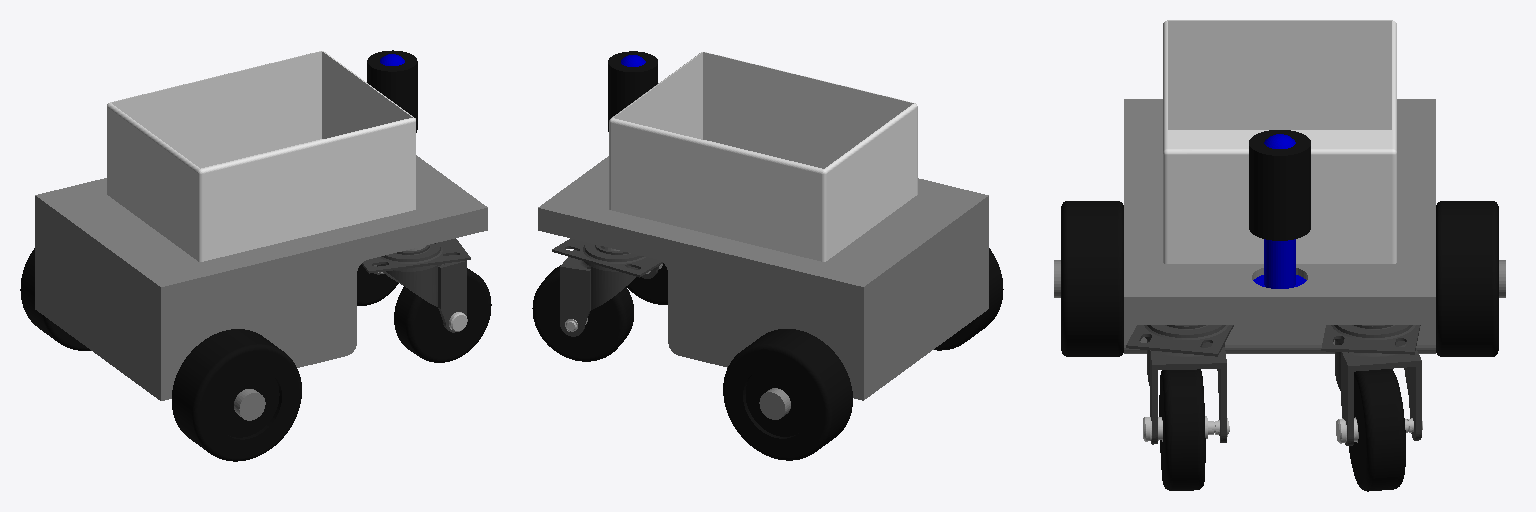
robot.urdf — hospital_robot:
<?xml version="1.0" ?>
<!-- =================================================================================== -->
<!-- |    This document was autogenerated by xacro from /home/bismanroop/ros2_ws/install/hospital_robot_description/share/hospital_robot_description/urdf/robot.urdf.xacro | -->
<!-- |    EDITING THIS FILE BY HAND IS NOT RECOMMENDED                                 | -->
<!-- =================================================================================== -->
<robot name="hospital_robot">
  <!-- ================================================================
    COORDINATE SYSTEM NOTES:
    - All STLs exported from same SolidWorks assembly (Y-up, mm)
    - ROS uses Z-up, meters
    - Mesh scale: 0.003 0.003 0.003  (scaled DOWN from 0.005 by factor 0.6)
    - SW → ROS: x_ros = sw_x*0.003, y_ros = -sw_z*0.003, z_ros = sw_y*0.003

    SCALING APPLIED (relative to 0.005 robot, factor = 0.6):
      Linear (xyz, sizes)  ×0.6
      Mass                 ×0.216   (volume ∝ L³ = 0.6³)
      Inertia              ×0.07776 (I = m·L² → 0.216 × 0.36 = 0.07776)

    ROBOT LAYOUT (0.003 scale):
      Drive wheels   : x=-0.276, y=±0.360, z=0
      Casters (front): x=+0.390, y=±0.195, z=+0.030 / +0.105
      Payload centre : z=+0.420
      Lidar mount    : x=+0.360, z=+0.435
      Spawn at z=0.150 in Gazebo

    CASTER JOINT CHAIN (per caster):
      base_link
        └─ front_caster_X_swivel_joint  [continuous, Z]  ← STEERS
              └─ front_caster_X_swivel  (topfork1/2, shaft, bearings,
                                         snap ring, bash plates)
                    └─ front_caster_X_wheel_joint  [continuous, Y]  ← ROLLS
                          └─ front_caster_X_wheel  (fork + wheel)

    WHEEL AXLE OFFSET (wheel_joint z from swivel origin):
      -0.150 m  ← (was -0.250, scaled by 0.6)
  ================================================================ -->
  <!-- ==================== MATERIALS ==================== -->
  <material name="grey">
    <color rgba="0.55 0.55 0.55 1.0"/>
  </material>
  <material name="dark_grey">
    <color rgba="0.30 0.30 0.30 1.0"/>
  </material>
  <material name="black">
    <color rgba="0.10 0.10 0.10 1.0"/>
  </material>
  <material name="blue">
    <color rgba="0.00 0.00 0.80 1.0"/>
  </material>
  <material name="white">
    <color rgba="0.90 0.90 0.90 1.0"/>
  </material>
  <material name="silver">
    <color rgba="0.75 0.75 0.75 1.0"/>
  </material>
  <!-- ==================== CHASSIS (base_link) ==================== -->
  <!-- Linear ×0.6: collision origin z=0.168, box 0.900×0.870×0.336 -->
  <!-- Mass ×0.216: 1250×0.216=270.0                                 -->
  <!-- Inertia ×0.07776: ixx=266.875×0.07776=20.749, etc.           -->
  <link name="base_link">
    <visual>
      <origin rpy="1.5708 0 0" xyz="0 0 0"/>
      <geometry>
        <mesh filename="package://hospital_robot_description/meshes/chassis.stl" scale="0.003 0.003 0.003"/>
      </geometry>
      <material name="grey"/>
    </visual>
    <collision>
      <origin rpy="0 0 0" xyz="0 0 0.168"/>
      <geometry>
        <box size="0.900 0.870 0.336"/>
      </geometry>
    </collision>
    <inertial>
      <mass value="270.0"/>
      <origin xyz="0 0 0.168"/>
      <inertia ixx="20.749" ixy="0" ixz="0" iyy="18.745" iyz="0" izz="35.438"/>
    </inertial>
  </link>
  <!-- ==================== PAYLOAD BOX ==================== -->
  <!-- Linear ×0.6: joint+collision origin z=0.420, box 0.600×0.450×0.240 -->
  <!-- Mass ×0.216: 125×0.216=27.0                                          -->
  <!-- Inertia ×0.07776: 15.625×0.07776=1.215                               -->
  <link name="payload_box">
    <visual>
      <origin rpy="1.5708 0 0" xyz="0 0 0"/>
      <geometry>
        <mesh filename="package://hospital_robot_description/meshes/payload_box.stl" scale="0.003 0.003 0.003"/>
      </geometry>
      <material name="white"/>
    </visual>
    <collision>
      <origin rpy="0 0 0" xyz="0 0 0.420"/>
      <geometry>
        <box size="0.600 0.450 0.240"/>
      </geometry>
    </collision>
    <inertial>
      <mass value="27.0"/>
      <origin xyz="0 0 0.420"/>
      <inertia ixx="1.215" ixy="0" ixz="0" iyy="1.215" iyz="0" izz="1.215"/>
    </inertial>
  </link>
  <joint name="payload_box_joint" type="fixed">
    <parent link="base_link"/>
    <child link="payload_box"/>
    <origin rpy="0 0 0" xyz="0 0 0"/>
  </joint>
  <!-- ==================== LIDAR MOUNT ==================== -->
  <!-- Linear ×0.6: collision origin (0.360, 0, 0.435), cyl r=0.072 l=0.330 -->
  <!-- Mass ×0.216: 25×0.216=5.4                                              -->
  <!-- Inertia ×0.07776: 0.3125×0.07776=0.02430                               -->
  <link name="lidar_mount">
    <visual>
      <origin rpy="1.5708 0 0" xyz="0 0 0"/>
      <geometry>
        <mesh filename="package://hospital_robot_description/meshes/lidar_mount.stl" scale="0.003 0.003 0.003"/>
      </geometry>
      <material name="blue"/>
    </visual>
    <collision>
      <origin rpy="0 0 0" xyz="0.360 0 0.435"/>
      <geometry>
        <cylinder length="0.330" radius="0.072"/>
      </geometry>
    </collision>
    <inertial>
      <mass value="5.4"/>
      <origin xyz="0.360 0 0.435"/>
      <inertia ixx="0.02430" ixy="0" ixz="0" iyy="0.02430" iyz="0" izz="0.02430"/>
    </inertial>
  </link>
  <joint name="lidar_mount_joint" type="fixed">
    <parent link="base_link"/>
    <child link="lidar_mount"/>
    <origin rpy="0 0 0" xyz="0 0 0"/>
  </joint>
  <!-- ==================== LEFT DRIVE WHEEL ==================== -->
  <!-- Joint ×0.6: (-0.276, +0.360, 0)                            -->
  <!-- Visual offset = -(joint xyz) = (0.276, -0.360, 0)           -->
  <!-- Collision: cyl r=0.150 l=0.120                               -->
  <!-- Mass ×0.216: 62.5×0.216=13.5                                 -->
  <!-- Inertia ×0.07776: ixx=0.9375×0.07776=0.07290, izz=1.875×0.07776=0.14580 -->
  <link name="left_wheel">
    <visual>
      <origin rpy="1.5708 0 0" xyz="0.276 -0.360 0"/>
      <geometry>
        <mesh filename="package://hospital_robot_description/meshes/wheel_left.stl" scale="0.003 0.003 0.003"/>
      </geometry>
      <material name="black"/>
    </visual>
    <collision>
      <origin rpy="1.5708 0 0" xyz="0 0 0"/>
      <geometry>
        <cylinder length="0.120" radius="0.150"/>
      </geometry>
    </collision>
    <inertial>
      <mass value="13.5"/>
      <origin xyz="0 0 0"/>
      <inertia ixx="0.07290" ixy="0" ixz="0" iyy="0.07290" iyz="0" izz="0.14580"/>
    </inertial>
  </link>
  <joint name="left_wheel_joint" type="continuous">
    <parent link="base_link"/>
    <child link="left_wheel"/>
    <origin rpy="0 0 0" xyz="-0.276 0.360 0"/>
    <axis xyz="0 1 0"/>
  </joint>
  <!-- ==================== RIGHT DRIVE WHEEL ==================== -->
  <!-- Joint ×0.6: (-0.276, -0.360, 0)                             -->
  <!-- Visual offset = -(joint xyz) = (0.276, +0.360, 0)            -->
  <link name="right_wheel">
    <visual>
      <origin rpy="1.5708 0 0" xyz="0.276 0.360 0"/>
      <geometry>
        <mesh filename="package://hospital_robot_description/meshes/wheel_right.stl" scale="0.003 0.003 0.003"/>
      </geometry>
      <material name="black"/>
    </visual>
    <collision>
      <origin rpy="1.5708 0 0" xyz="0 0 0"/>
      <geometry>
        <cylinder length="0.120" radius="0.150"/>
      </geometry>
    </collision>
    <inertial>
      <mass value="13.5"/>
      <origin xyz="0 0 0"/>
      <inertia ixx="0.07290" ixy="0" ixz="0" iyy="0.07290" iyz="0" izz="0.14580"/>
    </inertial>
  </link>
  <joint name="right_wheel_joint" type="continuous">
    <parent link="base_link"/>
    <child link="right_wheel"/>
    <origin rpy="0 0 0" xyz="-0.276 -0.360 0"/>
    <axis xyz="0 1 0"/>
  </joint>
  <!-- ╔══════════════════════════════════════════════════════════════╗
       ║       FRONT CASTER 1  (right-front)  — STEERABLE            ║
       ╚══════════════════════════════════════════════════════════════╝ -->
  <!--- CASTER 1 : SWIVEL LINK (top-fork assembly)
    Swivel joint in base_link : xyz = (0.390, -0.195, 0.030)   [×0.6 of (0.650,-0.325,0.050)]
    Visual offset             : -(0.390, -0.195, 0.030) = (-0.390, +0.195, -0.030)
  -->
  <link name="front_caster_1_swivel">
    <visual>
      <!-- Top fork 1 -->
      <origin rpy="1.5708 0 0" xyz="-0.390 0.195 -0.030"/>
      <geometry>
        <mesh filename="package://hospital_robot_description/meshes/caster1_topfork1.stl" scale="0.003 0.003 0.003"/>
      </geometry>
      <material name="dark_grey"/>
    </visual>
    <visual>
      <!-- Top fork 2 -->
      <origin rpy="1.5708 0 0" xyz="-0.390 0.195 -0.030"/>
      <geometry>
        <mesh filename="package://hospital_robot_description/meshes/caster1_topfork2.stl" scale="0.003 0.003 0.003"/>
      </geometry>
      <material name="dark_grey"/>
    </visual>
    <visual>
      <!-- Shaft -->
      <origin rpy="1.5708 0 0" xyz="-0.390 0.195 -0.030"/>
      <geometry>
        <mesh filename="package://hospital_robot_description/meshes/caster1_shaft.stl" scale="0.003 0.003 0.003"/>
      </geometry>
      <material name="silver"/>
    </visual>
    <visual>
      <!-- Bash plate 2 -->
      <origin rpy="1.5708 0 0" xyz="-0.390 0.195 -0.030"/>
      <geometry>
        <mesh filename="package://hospital_robot_description/meshes/caster1_bash2.stl" scale="0.003 0.003 0.003"/>
      </geometry>
      <material name="silver"/>
    </visual>
    <visual>
      <!-- Bash plate 3 -->
      <origin rpy="1.5708 0 0" xyz="-0.390 0.195 -0.030"/>
      <geometry>
        <mesh filename="package://hospital_robot_description/meshes/caster1_bash3.stl" scale="0.003 0.003 0.003"/>
      </geometry>
      <material name="silver"/>
    </visual>
    <visual>
      <!-- Bearing 1 -->
      <origin rpy="1.5708 0 0" xyz="-0.390 0.195 -0.030"/>
      <geometry>
        <mesh filename="package://hospital_robot_description/meshes/caster1_bearing1.stl" scale="0.003 0.003 0.003"/>
      </geometry>
      <material name="silver"/>
    </visual>
    <visual>
      <!-- Bearing 2 -->
      <origin rpy="1.5708 0 0" xyz="-0.390 0.195 -0.030"/>
      <geometry>
        <mesh filename="package://hospital_robot_description/meshes/caster1_bearing2.stl" scale="0.003 0.003 0.003"/>
      </geometry>
      <material name="silver"/>
    </visual>
    <visual>
      <!-- Snap ring -->
      <origin rpy="1.5708 0 0" xyz="-0.390 0.195 -0.030"/>
      <geometry>
        <mesh filename="package://hospital_robot_description/meshes/caster1_snapring.stl" scale="0.003 0.003 0.003"/>
      </geometry>
      <material name="silver"/>
    </visual>
    <!-- Collision: cyl r=0.045 l=0.090, origin z=-0.075  [×0.6] -->
    <collision>
      <origin rpy="0 0 0" xyz="0 0 -0.075"/>
      <geometry>
        <cylinder length="0.090" radius="0.045"/>
      </geometry>
    </collision>
    <!-- Mass ×0.216: 6.25×0.216=1.350  Inertia ×0.07776: 0.046875×0.07776=0.003645 -->
    <inertial>
      <mass value="1.350"/>
      <origin xyz="0 0 -0.075"/>
      <inertia ixx="0.003645" ixy="0" ixz="0" iyy="0.003645" iyz="0" izz="0.003645"/>
    </inertial>
  </link>
  <!-- CASTER 1 SWIVEL JOINT — steers around Z axis -->
  <joint name="front_caster_1_swivel_joint" type="continuous">
    <parent link="base_link"/>
    <child link="front_caster_1_swivel"/>
    <origin rpy="0 0 0" xyz="0.390 -0.195 0.030"/>
    <axis xyz="0 0 1"/>
    <dynamics damping="0.001" friction="0.001"/>
  </joint>
  <!-- - CASTER 1 : WHEEL LINK (lower fork + rolling wheel)
    Wheel joint in swivel   : xyz = (0, 0, -0.150)   [×0.6 of -0.250]
    Visual offset in wheel  :
      = -(0.390, -0.195, 0.030) - (0, 0, -0.150)
      = (-0.390, +0.195, +0.120)
    Collision sphere r=0.120  [×0.6 of 0.200]
  -->
  <link name="front_caster_1_wheel">
    <visual>
      <!-- Fork -->
      <origin rpy="1.5708 0 0" xyz="-0.390 0.195 0.120"/>
      <geometry>
        <mesh filename="package://hospital_robot_description/meshes/caster1_fork.stl" scale="0.003 0.003 0.003"/>
      </geometry>
      <material name="dark_grey"/>
    </visual>
    <visual>
      <!-- Wheel -->
      <origin rpy="1.5708 0 0" xyz="-0.390 0.195 0.120"/>
      <geometry>
        <mesh filename="package://hospital_robot_description/meshes/caster1_wheel.stl" scale="0.003 0.003 0.003"/>
      </geometry>
      <material name="black"/>
    </visual>
    <collision>
      <origin rpy="0 0 0" xyz="0 0 0"/>
      <geometry>
        <sphere radius="0.120"/>
      </geometry>
    </collision>
    <inertial>
      <mass value="1.350"/>
      <origin xyz="0 0 0"/>
      <inertia ixx="0.003645" ixy="0" ixz="0" iyy="0.003645" iyz="0" izz="0.003645"/>
    </inertial>
  </link>
  <!-- CASTER 1 WHEEL JOINT — rolls around Y axis -->
  <joint name="front_caster_1_wheel_joint" type="continuous">
    <parent link="front_caster_1_swivel"/>
    <child link="front_caster_1_wheel"/>
    <origin rpy="0 0 0" xyz="0 0 -0.150"/>
    <axis xyz="0 1 0"/>
    <dynamics damping="0.001" friction="0.001"/>
  </joint>
  <!-- ╔══════════════════════════════════════════════════════════════╗
       ║       FRONT CASTER 3  (left-front)  — STEERABLE             ║
       ╚══════════════════════════════════════════════════════════════╝ -->
  <!--- CASTER 3 : SWIVEL LINK (top-fork assembly)
    Swivel joint in base_link : xyz = (0.390, +0.195, 0.105)   [×0.6 of (0.650,+0.325,0.175)]
    Visual offset             : -(0.390, +0.195, 0.105) = (-0.390, -0.195, -0.105)
  -->
  <link name="front_caster_3_swivel">
    <visual>
      <!-- Top fork 1 -->
      <origin rpy="1.5708 0 0" xyz="-0.390 -0.195 -0.105"/>
      <geometry>
        <mesh filename="package://hospital_robot_description/meshes/caster3_topfork1.stl" scale="0.003 0.003 0.003"/>
      </geometry>
      <material name="dark_grey"/>
    </visual>
    <visual>
      <!-- Top fork 2 -->
      <origin rpy="1.5708 0 0" xyz="-0.390 -0.195 -0.105"/>
      <geometry>
        <mesh filename="package://hospital_robot_description/meshes/caster3_topfork2.stl" scale="0.003 0.003 0.003"/>
      </geometry>
      <material name="dark_grey"/>
    </visual>
    <visual>
      <!-- Shaft -->
      <origin rpy="1.5708 0 0" xyz="-0.390 -0.195 -0.105"/>
      <geometry>
        <mesh filename="package://hospital_robot_description/meshes/caster3_shaft.stl" scale="0.003 0.003 0.003"/>
      </geometry>
      <material name="silver"/>
    </visual>
    <visual>
      <!-- Bash plate 2 -->
      <origin rpy="1.5708 0 0" xyz="-0.390 -0.195 -0.105"/>
      <geometry>
        <mesh filename="package://hospital_robot_description/meshes/caster3_bash2.stl" scale="0.003 0.003 0.003"/>
      </geometry>
      <material name="silver"/>
    </visual>
    <visual>
      <!-- Bash plate 3 -->
      <origin rpy="1.5708 0 0" xyz="-0.390 -0.195 -0.105"/>
      <geometry>
        <mesh filename="package://hospital_robot_description/meshes/caster3_bash3.stl" scale="0.003 0.003 0.003"/>
      </geometry>
      <material name="silver"/>
    </visual>
    <visual>
      <!-- Bearing 1 -->
      <origin rpy="1.5708 0 0" xyz="-0.390 -0.195 -0.105"/>
      <geometry>
        <mesh filename="package://hospital_robot_description/meshes/caster3_bearing1.stl" scale="0.003 0.003 0.003"/>
      </geometry>
      <material name="silver"/>
    </visual>
    <visual>
      <!-- Bearing 2 -->
      <origin rpy="1.5708 0 0" xyz="-0.390 -0.195 -0.105"/>
      <geometry>
        <mesh filename="package://hospital_robot_description/meshes/caster3_bearing2.stl" scale="0.003 0.003 0.003"/>
      </geometry>
      <material name="silver"/>
    </visual>
    <visual>
      <!-- Snap ring -->
      <origin rpy="1.5708 0 0" xyz="-0.390 -0.195 -0.105"/>
      <geometry>
        <mesh filename="package://hospital_robot_description/meshes/caster3_snapring.stl" scale="0.003 0.003 0.003"/>
      </geometry>
      <material name="silver"/>
    </visual>
    <collision>
      <origin rpy="0 0 0" xyz="0 0 -0.075"/>
      <geometry>
        <cylinder length="0.090" radius="0.045"/>
      </geometry>
    </collision>
    <inertial>
      <mass value="1.350"/>
      <origin xyz="0 0 -0.075"/>
      <inertia ixx="0.003645" ixy="0" ixz="0" iyy="0.003645" iyz="0" izz="0.003645"/>
    </inertial>
  </link>
  <!-- CASTER 3 SWIVEL JOINT — steers around Z axis -->
  <joint name="front_caster_3_swivel_joint" type="continuous">
    <parent link="base_link"/>
    <child link="front_caster_3_swivel"/>
    <origin rpy="0 0 0" xyz="0.390 0.195 0.105"/>
    <axis xyz="0 0 1"/>
    <dynamics damping="0.001" friction="0.001"/>
  </joint>
  <!-- - CASTER 3 : WHEEL LINK (lower fork + rolling wheel)
    Wheel joint in swivel   : xyz = (0, 0, -0.150)   [×0.6 of -0.250]
    Visual offset in wheel  :
      = -(0.390, +0.195, 0.105) - (0, 0, -0.150)
      = (-0.390, -0.195, +0.045)
  -->
  <link name="front_caster_3_wheel">
    <visual>
      <!-- Fork -->
      <origin rpy="1.5708 0 0" xyz="-0.390 -0.195 0.045"/>
      <geometry>
        <mesh filename="package://hospital_robot_description/meshes/caster3_fork.stl" scale="0.003 0.003 0.003"/>
      </geometry>
      <material name="dark_grey"/>
    </visual>
    <visual>
      <!-- Wheel -->
      <origin rpy="1.5708 0 0" xyz="-0.390 -0.195 0.045"/>
      <geometry>
        <mesh filename="package://hospital_robot_description/meshes/caster3_wheel.stl" scale="0.003 0.003 0.003"/>
      </geometry>
      <material name="black"/>
    </visual>
    <collision>
      <origin rpy="0 0 0" xyz="0 0 0"/>
      <geometry>
        <sphere radius="0.120"/>
      </geometry>
    </collision>
    <inertial>
      <mass value="1.350"/>
      <origin xyz="0 0 0"/>
      <inertia ixx="0.003645" ixy="0" ixz="0" iyy="0.003645" iyz="0" izz="0.003645"/>
    </inertial>
  </link>
  <!-- CASTER 3 WHEEL JOINT — rolls around Y axis -->
  <joint name="front_caster_3_wheel_joint" type="continuous">
    <parent link="front_caster_3_swivel"/>
    <child link="front_caster_3_wheel"/>
    <origin rpy="0 0 0" xyz="0 0 -0.150"/>
    <axis xyz="0 1 0"/>
    <dynamics damping="0.001" friction="0.001"/>
  </joint>
  <!-- ==================== LIDAR SENSOR LINK ==================== -->
  <!-- Cylinder r=0.060 l=0.180  [×0.6]                            -->
  <!-- Joint origin: x=0.360 z=0.495  [lidar_mount 0.360,0,0.435 + 0.060 above] -->
  <!-- Mass ×0.216: 12.5×0.216=2.7  Inertia ×0.07776: 0.3125×0.07776=0.02430  -->
  <link name="lidar_link">
    <visual>
      <origin rpy="0 0 0" xyz="0 0 0"/>
      <geometry>
        <cylinder length="0.180" radius="0.060"/>
      </geometry>
      <material name="black"/>
    </visual>
    <collision>
      <origin rpy="0 0 0" xyz="0 0 0"/>
      <geometry>
        <cylinder length="0.180" radius="0.060"/>
      </geometry>
    </collision>
    <inertial>
      <mass value="2.7"/>
      <origin xyz="0 0 0"/>
      <inertia ixx="0.02430" ixy="0" ixz="0" iyy="0.02430" iyz="0" izz="0.02430"/>
    </inertial>
  </link>
  <joint name="lidar_joint" type="fixed">
    <parent link="lidar_mount"/>
    <child link="lidar_link"/>
    <!-- Mount z=0.435; sensor sits 0.060 m above top → 0.435+0.060=0.495 [×0.6] -->
    <origin rpy="0 0 0" xyz="0.360 0 0.495"/>
  </joint>
  <!-- ==================== IGNITION GAZEBO MATERIALS ==================== -->
  <gazebo reference="base_link">
    <visual>
      <material>
        <ambient>0.5 0.5 0.5 1</ambient>
        <diffuse>0.6 0.6 0.6 1</diffuse>
        <specular>0.1 0.1 0.1 1</specular>
      </material>
    </visual>
  </gazebo>
  <gazebo reference="payload_box">
    <visual>
      <material>
        <ambient>0.95 0.95 0.95 1</ambient>
        <diffuse>0.95 0.95 0.95 1</diffuse>
        <specular>0.05 0.05 0.05 1</specular>
      </material>
    </visual>
  </gazebo>
  <gazebo reference="lidar_mount">
    <visual>
      <material>
        <ambient>0.0 0.3 0.8 1</ambient>
        <diffuse>0.0 0.3 0.8 1</diffuse>
        <specular>0.1 0.1 0.1 1</specular>
      </material>
    </visual>
  </gazebo>
  <gazebo reference="lidar_link">
    <visual>
      <material>
        <ambient>0.1 0.1 0.1 1</ambient>
        <diffuse>0.1 0.1 0.1 1</diffuse>
        <specular>0.2 0.2 0.2 1</specular>
      </material>
    </visual>
  </gazebo>
  <gazebo reference="left_wheel">
    <visual>
      <material>
        <ambient>0.1 0.1 0.1 1</ambient>
        <diffuse>0.15 0.15 0.15 1</diffuse>
        <specular>0.05 0.05 0.05 1</specular>
      </material>
    </visual>
    <mu1>0.8</mu1>
    <mu2>0.8</mu2>
  </gazebo>
  <gazebo reference="right_wheel">
    <visual>
      <material>
        <ambient>0.1 0.1 0.1 1</ambient>
        <diffuse>0.15 0.15 0.15 1</diffuse>
        <specular>0.05 0.05 0.05 1</specular>
      </material>
    </visual>
    <mu1>0.8</mu1>
    <mu2>0.8</mu2>
  </gazebo>
  <!-- Swivel links: near-zero friction so casters self-align freely -->
  <gazebo reference="front_caster_1_swivel">
    <mu1>0.0</mu1>
    <mu2>0.0</mu2>
  </gazebo>
  <gazebo reference="front_caster_3_swivel">
    <mu1>0.0</mu1>
    <mu2>0.0</mu2>
  </gazebo>
  <!-- Caster wheels: zero friction on ground contact (passive roll) -->
  <gazebo reference="front_caster_1_wheel">
    <visual>
      <material>
        <ambient>0.2 0.2 0.2 1</ambient>
        <diffuse>0.25 0.25 0.25 1</diffuse>
        <specular>0.3 0.3 0.3 1</specular>
      </material>
    </visual>
    <mu1>0.0</mu1>
    <mu2>0.0</mu2>
  </gazebo>
  <gazebo reference="front_caster_3_wheel">
    <visual>
      <material>
        <ambient>0.2 0.2 0.2 1</ambient>
        <diffuse>0.25 0.25 0.25 1</diffuse>
        <specular>0.3 0.3 0.3 1</specular>
      </material>
    </visual>
    <mu1>0.0</mu1>
    <mu2>0.0</mu2>
  </gazebo>
  <!-- ==================== SIMPLE DIFF DRIVE ==================== -->
  <gazebo>
    <plugin filename="libignition-gazebo-diff-drive-system.so" name="ignition::gazebo::systems::DiffDrive">
      <left_joint>left_wheel_joint</left_joint>
      <right_joint>right_wheel_joint</right_joint>
      <wheel_separation>0.720</wheel_separation>
      <wheel_radius>0.150</wheel_radius>
      <odom_publish_frequency>10</odom_publish_frequency>
      <topic>cmd_vel</topic>
      <odom_topic>odom</odom_topic>
      <frame_id>odom</frame_id>
      <child_frame_id>base_link</child_frame_id>
    </plugin>
  </gazebo>
</robot>

--- Render facts (derived) ---
The picture shows the robot from 3 angles, left to right: view 1: azimuth 30°, elevation 25°; view 2: azimuth 150°, elevation 25°; view 3: azimuth 270°, elevation 25°; orthographic projection.
Robot: hospital_robot — 10 links, 9 joints (6 continuous, 3 fixed); root link base_link; default pose: all joints at 0.
Visible links, largest first — view 1: base_link, payload_box, right_wheel, front_caster_1_wheel, lidar_link, front_caster_1_swivel, left_wheel, front_caster_3_wheel; view 2: base_link, payload_box, left_wheel, front_caster_3_wheel, lidar_link, front_caster_3_swivel, right_wheel, front_caster_1_wheel; view 3: payload_box, base_link, left_wheel, right_wheel, front_caster_3_wheel, front_caster_1_wheel, lidar_link, front_caster_1_swivel, front_caster_3_swivel, lidar_mount.
Link boxes in pixels (x1,y1,x2,y2): base_link: (35, 155, 487, 420); payload_box: (107, 51, 415, 261); right_wheel: (172, 329, 301, 461); front_caster_1_wheel: (377, 255, 491, 362); lidar_link: (367, 50, 417, 132); front_caster_1_swivel: (362, 238, 470, 331); left_wheel: (20, 248, 90, 350); front_caster_3_wheel: (357, 264, 398, 305); base_link: (538, 156, 988, 419); payload_box: (609, 52, 917, 261); left_wheel: (723, 329, 852, 460); front_caster_3_wheel: (532, 250, 639, 361); lidar_link: (608, 51, 657, 131); front_caster_3_swivel: (552, 238, 662, 331); right_wheel: (934, 248, 1003, 350); front_caster_1_wheel: (626, 263, 667, 304); payload_box: (1163, 20, 1396, 263); base_link: (1054, 99, 1505, 353); left_wheel: (1436, 201, 1498, 356); right_wheel: (1061, 201, 1123, 356); front_caster_3_wheel: (1335, 340, 1421, 491); front_caster_1_wheel: (1147, 340, 1226, 490); lidar_link: (1249, 130, 1310, 240); front_caster_1_swivel: (1126, 325, 1233, 441); front_caster_3_swivel: (1321, 325, 1422, 443); lidar_mount: (1253, 134, 1306, 288).
Size in the robot's own frame: 0.9633 by 0.87 by 0.7499 metres.
25 mesh visuals loaded from 25 distinct referenced files (25 binary STL).
